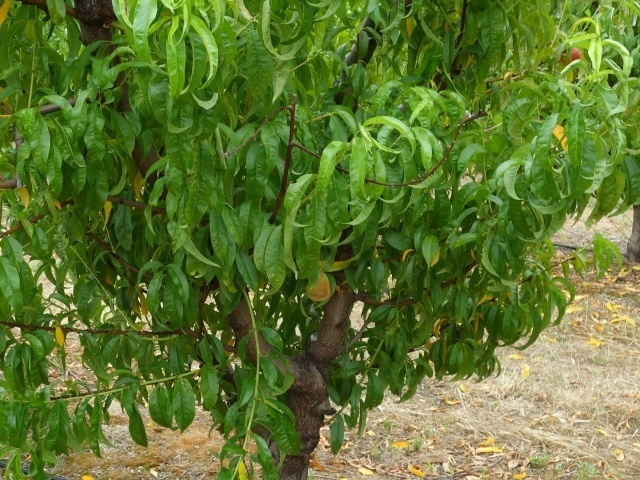peach: (302, 270, 337, 304), (557, 45, 582, 69)
